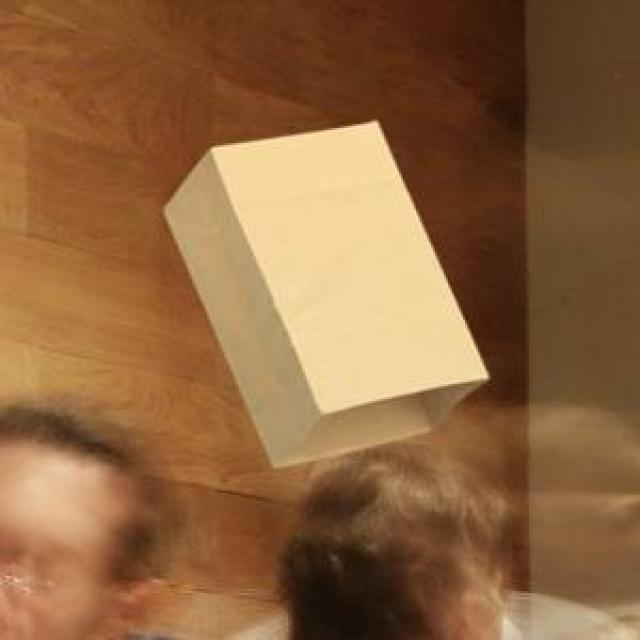paper: (160, 117, 484, 463)
